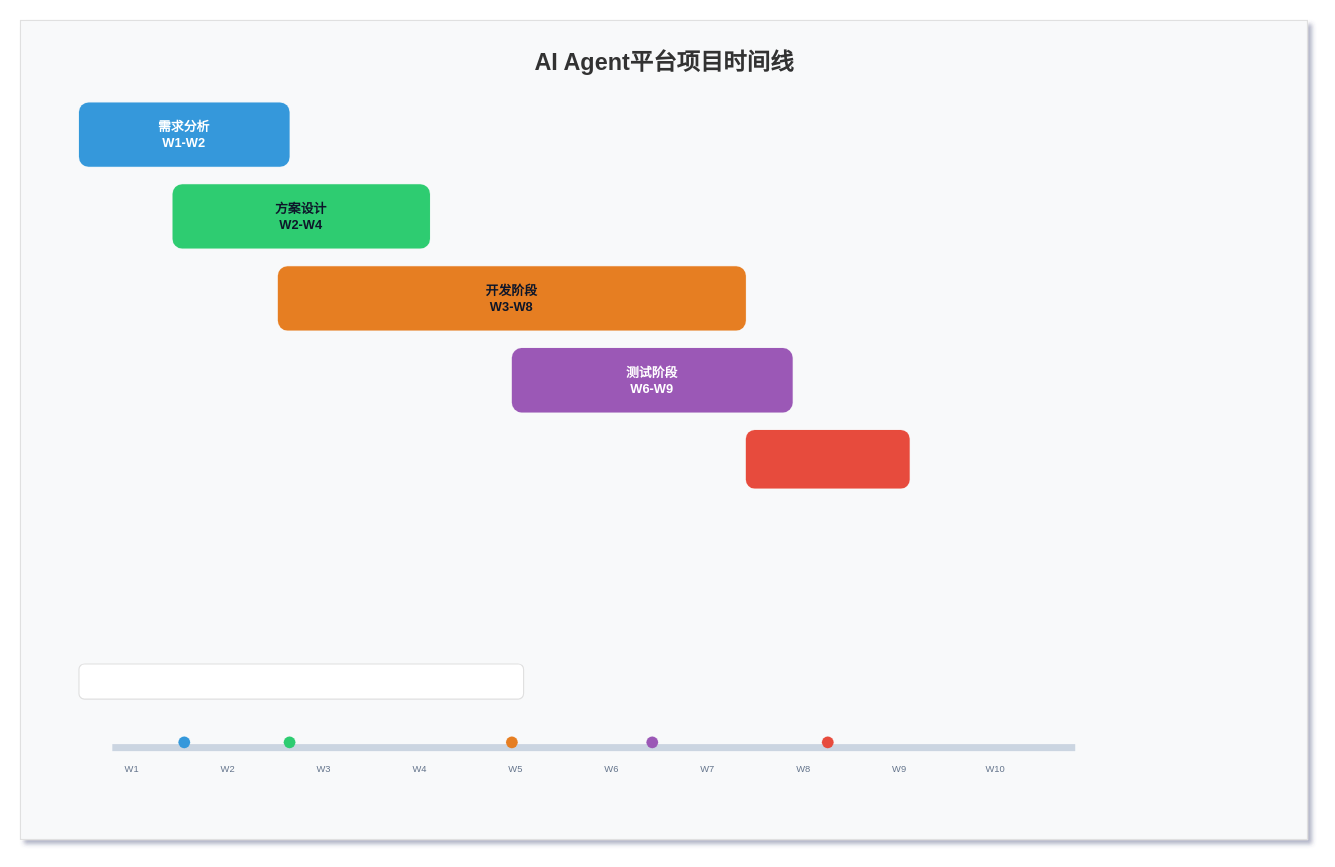
The diagram is 1335 pixels wide and 867 high, and some of its shapes have lost their labels. The shapes that lost their labels are listed below. From the top down, each one's centre as x and y in pixels, then its label:
the point at 827,458: 上线部署 W9-W10
the point at 301,681: 图例：蓝=需求 绿=设计 橙=开发 紫=测试 红=上线
